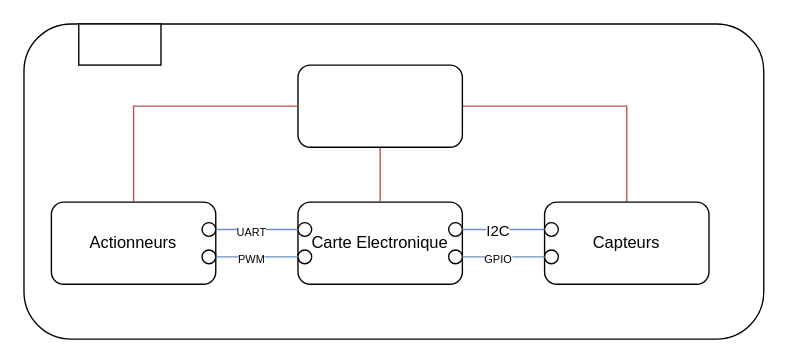
Some shapes in this 788 by 363 pixel diagram are drawn without their labels. The shapes that lost their labels are listed below. From the top down, each one's centre as x and y in pixels, then its label:
At point (119, 44): "Robot".
At point (379, 105): "Alimentation".
